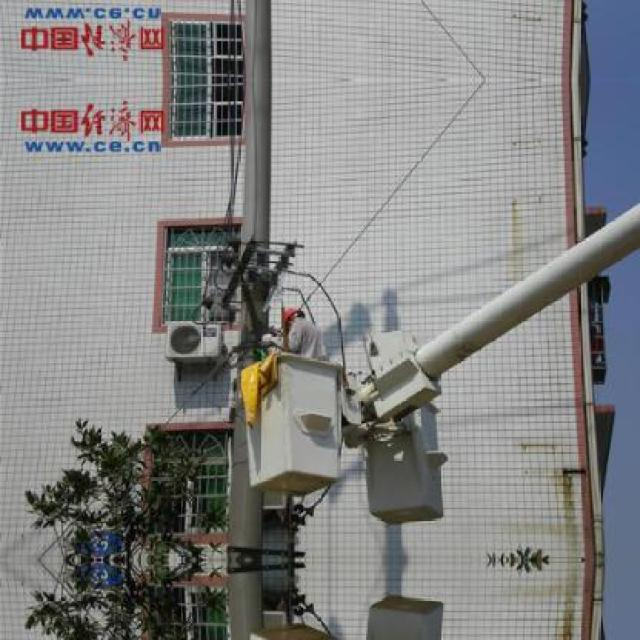helmet: (275, 303, 307, 328)
